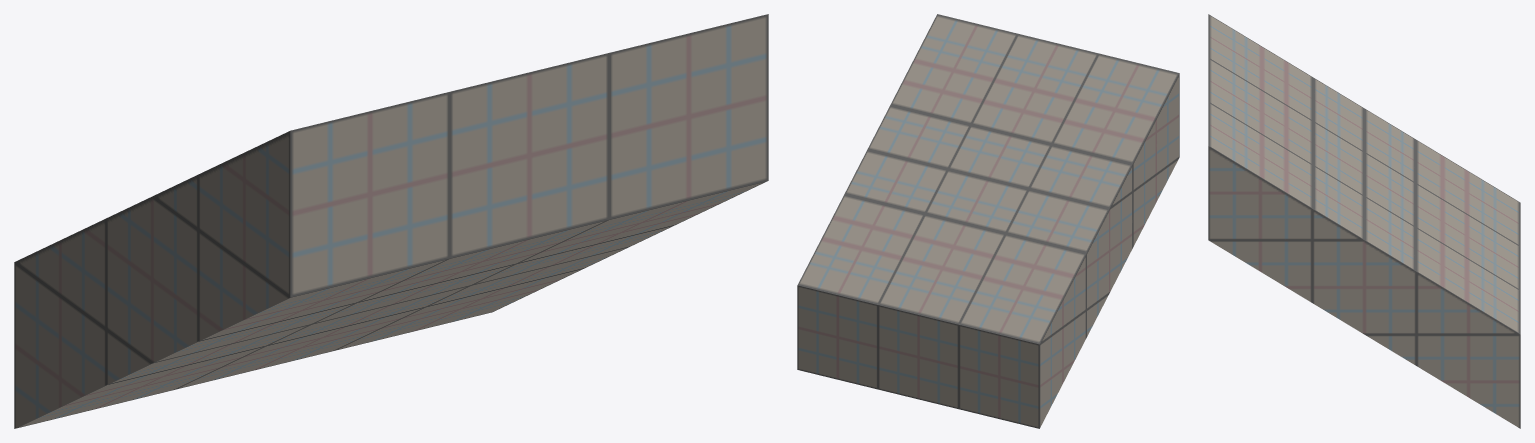
The model's file is LevelPieces.FBX.
3 views of the same model, side by side, from view 1: azimuth 30°, elevation 25°; view 2: azimuth 150°, elevation 25°; view 3: azimuth 270°, elevation 25° (orthographic). The views are drawn at different scales.
Parts seen in each view (by area): view 1: Stair; view 2: Stair; view 3: Stair.
Boxes of the visible parts, x1,y1,x2,y2 form: Stair: (14, 14, 768, 428); Stair: (797, 14, 1179, 428); Stair: (1208, 14, 1520, 428).
Bounding box in the file's own units: 300 × 300 × 300.
